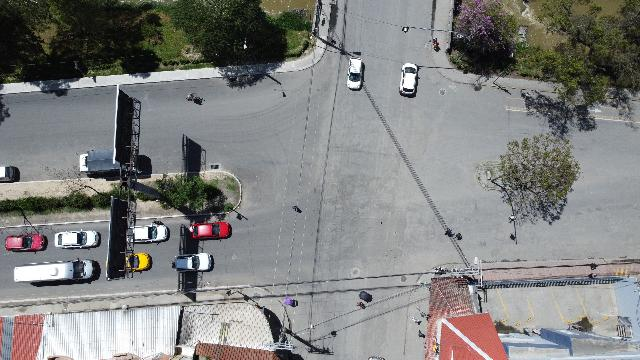Vehiculo: (13, 260, 96, 284), (128, 221, 170, 244), (54, 230, 102, 250), (173, 253, 213, 273), (188, 222, 232, 240), (5, 234, 47, 252), (399, 63, 419, 96), (128, 252, 152, 274), (348, 58, 364, 90), (0, 166, 20, 182)
